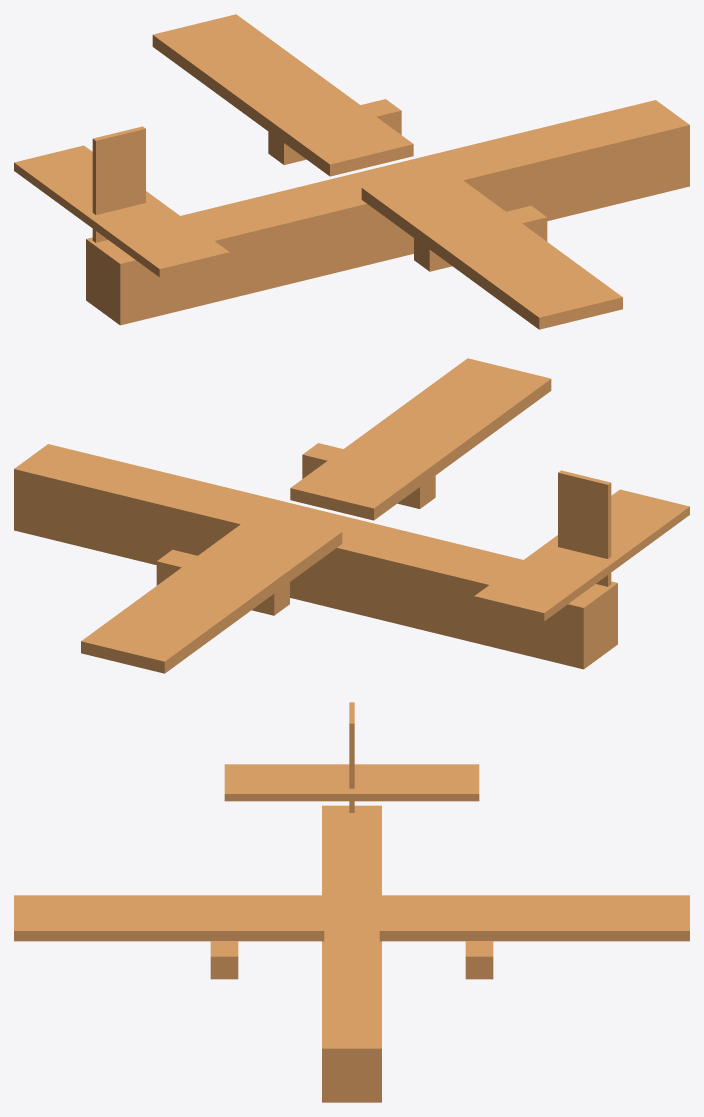
Rendered from PROJECT_Z_K28_Collision_Proxies.glb.
The picture shows the model from 3 angles, top to bottom: view 1: azimuth 30°, elevation 25°; view 2: azimuth 150°, elevation 25°; view 3: azimuth 270°, elevation 25°; orthographic projection. The views are drawn at different scales.
Visible parts, largest first — view 1: UCX_K28_Fuselage, UCX_K28_Wing_Port, UCX_K28_Wing_Starboard, UCX_K28_Tailplane, UCX_K28_Tailfin, UCX_K28_Engine_Port, UCX_K28_Engine_Starboard; view 2: UCX_K28_Fuselage, UCX_K28_Wing_Port, UCX_K28_Wing_Starboard, UCX_K28_Tailplane, UCX_K28_Tailfin, UCX_K28_Engine_Starboard, UCX_K28_Engine_Port; view 3: UCX_K28_Fuselage, UCX_K28_Wing_Port, UCX_K28_Wing_Starboard, UCX_K28_Tailplane, UCX_K28_Engine_Port, UCX_K28_Engine_Starboard.
Boxes of the visible parts, left/top/right/bottom form: UCX_K28_Fuselage: left=86, top=100, right=689, bottom=325; UCX_K28_Wing_Port: left=361, top=167, right=622, bottom=329; UCX_K28_Wing_Starboard: left=152, top=14, right=413, bottom=176; UCX_K28_Tailplane: left=14, top=145, right=229, bottom=277; UCX_K28_Tailfin: left=92, top=126, right=145, bottom=242; UCX_K28_Engine_Port: left=414, top=205, right=547, bottom=271; UCX_K28_Engine_Starboard: left=268, top=99, right=401, bottom=164; UCX_K28_Fuselage: left=14, top=444, right=617, bottom=669; UCX_K28_Wing_Port: left=290, top=358, right=551, bottom=520; UCX_K28_Wing_Starboard: left=81, top=511, right=342, bottom=673; UCX_K28_Tailplane: left=474, top=489, right=689, bottom=621; UCX_K28_Tailfin: left=558, top=470, right=611, bottom=586; UCX_K28_Engine_Starboard: left=156, top=549, right=289, bottom=615; UCX_K28_Engine_Port: left=302, top=443, right=435, bottom=508; UCX_K28_Fuselage: left=322, top=805, right=381, bottom=1102; UCX_K28_Wing_Port: left=14, top=895, right=324, bottom=941; UCX_K28_Wing_Starboard: left=379, top=895, right=689, bottom=941; UCX_K28_Tailplane: left=224, top=764, right=479, bottom=801; UCX_K28_Engine_Port: left=210, top=941, right=238, bottom=979; UCX_K28_Engine_Starboard: left=465, top=941, right=493, bottom=979.
Bounding box in the file's own units: 23.45 × 6.7 × 26.8.
